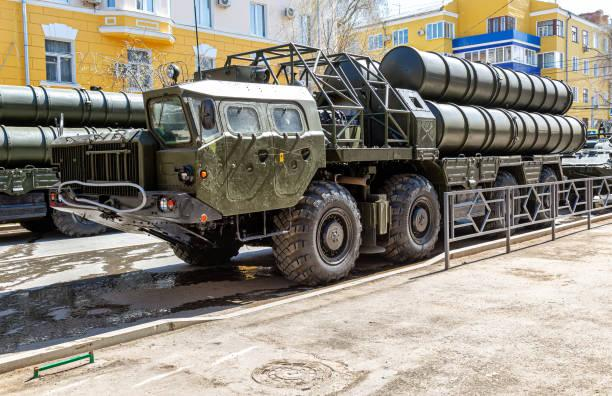MIL_SAM_TEL: (52, 36, 588, 287), (0, 85, 145, 235)
